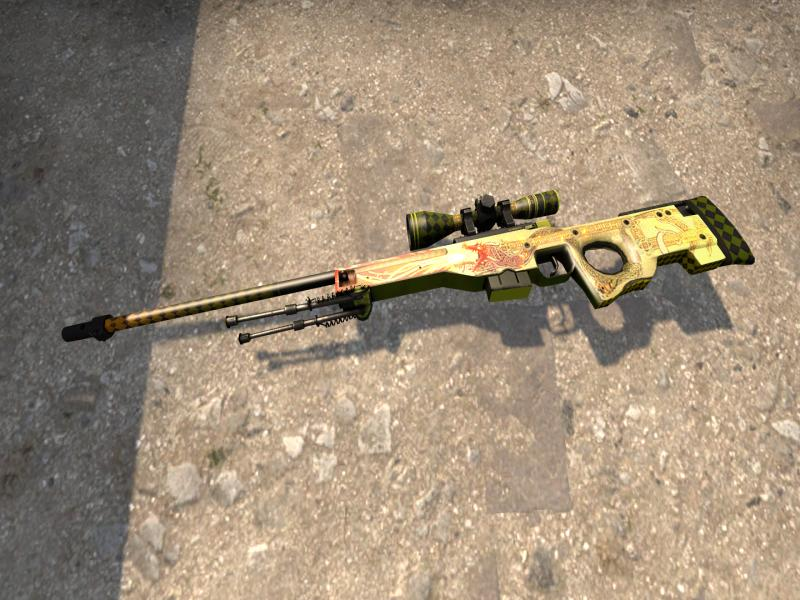AWP: (63, 191, 756, 342)
